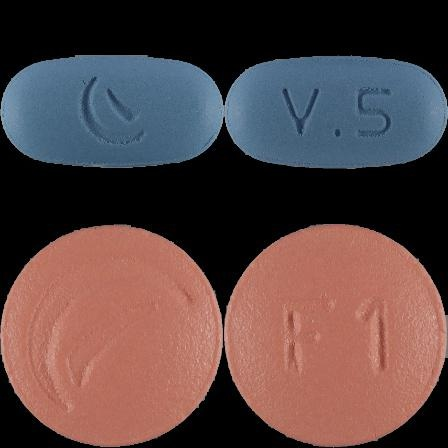45963-558: (0, 0, 224, 224)
